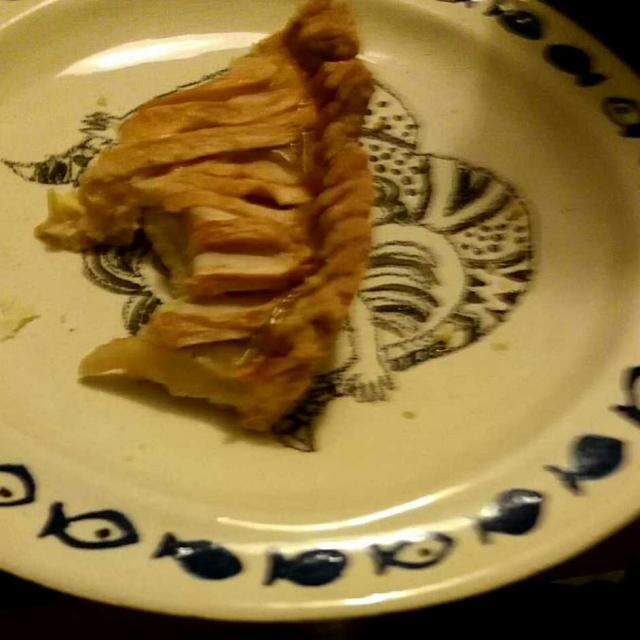apple-pie: (27, 17, 369, 427)
